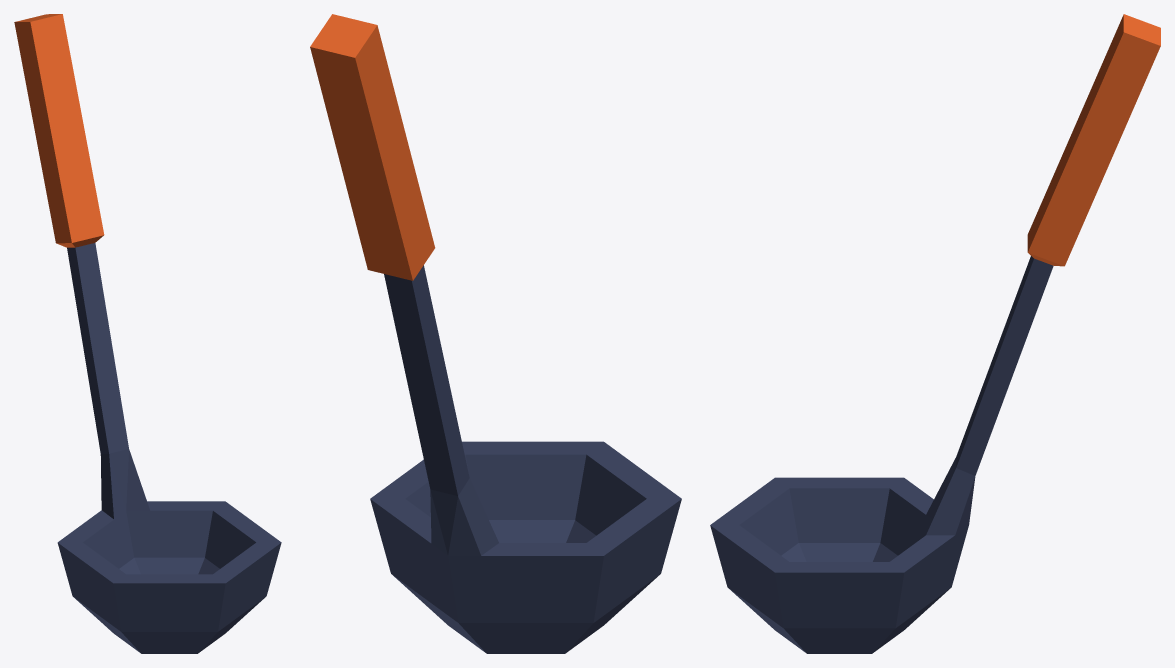
The model's file is ladle2_PLY.fbx.
The picture shows the model from 3 angles, left to right: view 1: azimuth 30°, elevation 25°; view 2: azimuth 150°, elevation 25°; view 3: azimuth 270°, elevation 25°; orthographic projection. The views are drawn at different scales.
Visible parts, largest first — view 1: ladle2_PLY; view 2: ladle2_PLY; view 3: ladle2_PLY.
Boxes of the visible parts, x1,y1,x2,y2 form: ladle2_PLY: (14,14,281,653); ladle2_PLY: (310,14,681,653); ladle2_PLY: (710,14,1160,653).
Size of the model in its own units: 0.433 by 1.33 by 0.8703.
